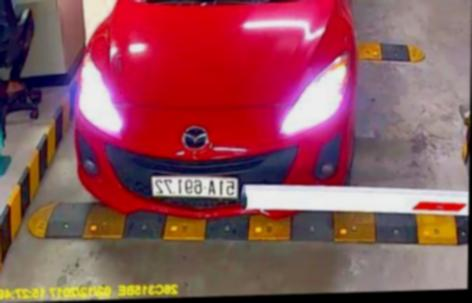License_Plate: (154, 174, 240, 198)
